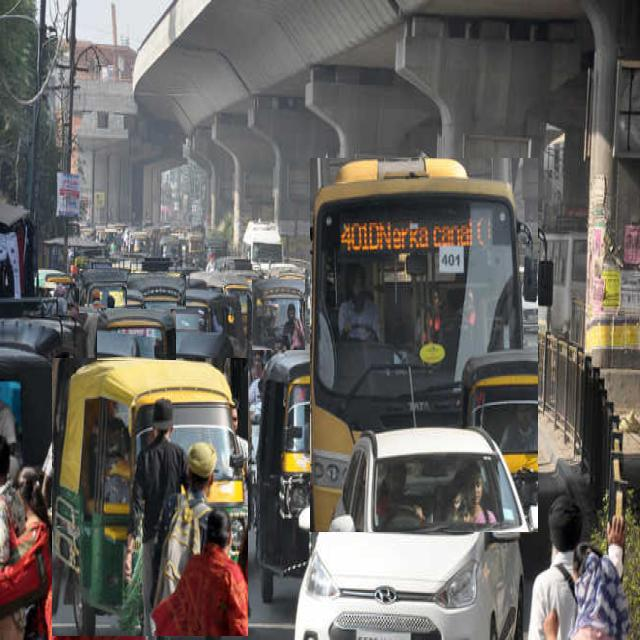autorickshaw: (52, 358, 248, 636), (258, 348, 386, 599), (191, 268, 259, 327), (97, 309, 175, 360), (252, 279, 305, 350), (169, 289, 230, 333), (79, 270, 130, 313), (127, 273, 185, 309)
bus: (310, 158, 538, 532), (241, 221, 282, 271)
car: (295, 428, 524, 639)
